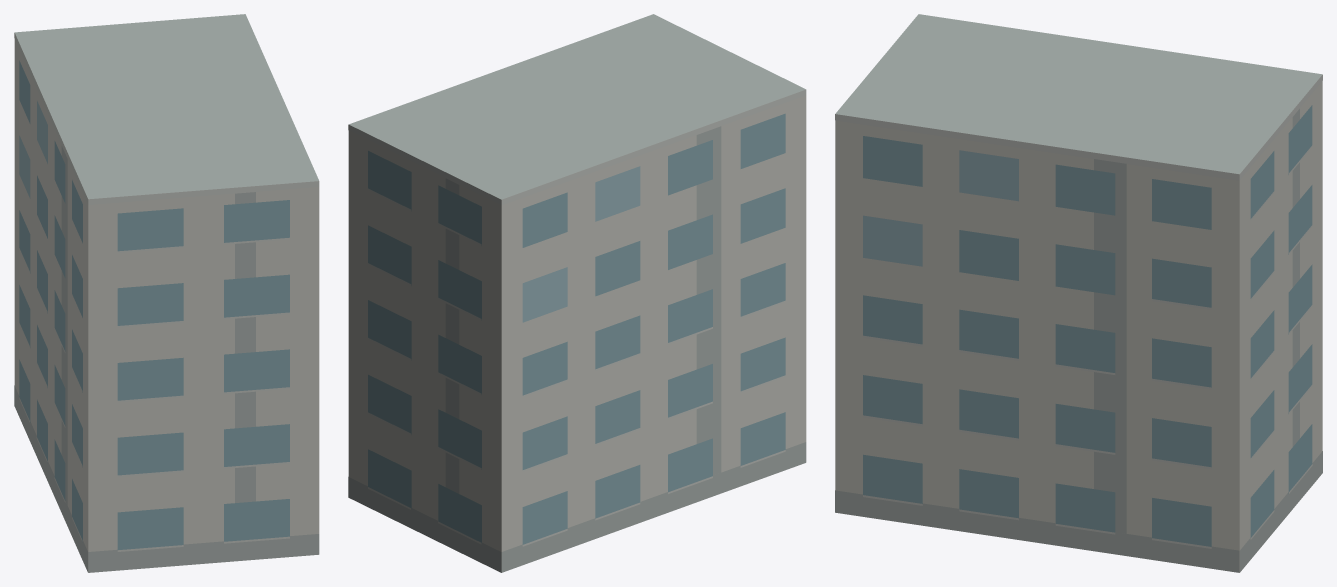
The model's file is residential-7969fc34-14aa-4990-989a-bcd040e78e76.glb.
The picture shows the model from 3 angles, left to right: view 1: azimuth 30°, elevation 25°; view 2: azimuth 150°, elevation 25°; view 3: azimuth 270°, elevation 25°; orthographic projection. The views are drawn at different scales.
Visible parts, largest first — view 1: residential-7969fc34-14aa-4990-989a-bcd040e78e76.tmp; view 2: residential-7969fc34-14aa-4990-989a-bcd040e78e76.tmp; view 3: residential-7969fc34-14aa-4990-989a-bcd040e78e76.tmp.
Boxes of the visible parts, x1,y1,x2,y2 form: residential-7969fc34-14aa-4990-989a-bcd040e78e76.tmp: (14,14,319,572); residential-7969fc34-14aa-4990-989a-bcd040e78e76.tmp: (348,14,806,572); residential-7969fc34-14aa-4990-989a-bcd040e78e76.tmp: (835,14,1322,572).
Size of the model in its own units: 13.16 by 15.25 by 16.92.
